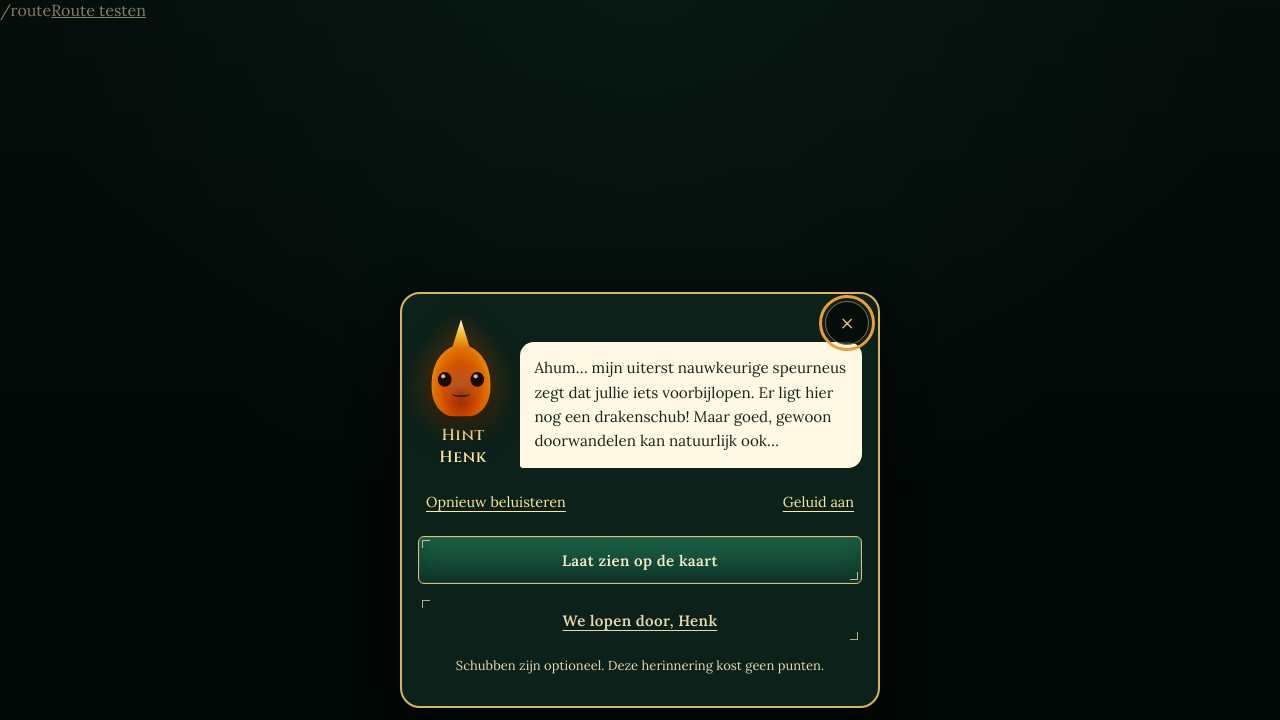
Test: Hint Henk schub reminders › shows a free reminder after passing, respects mute and focuses the schub on the map
Expected: the dialog with class "henk-hint" is shown, [400, 292, 880, 708]
Step 1. Click the button "Laat zien op de kaart" → (640,560), box [418, 536, 862, 584]
Wait 1000 ms
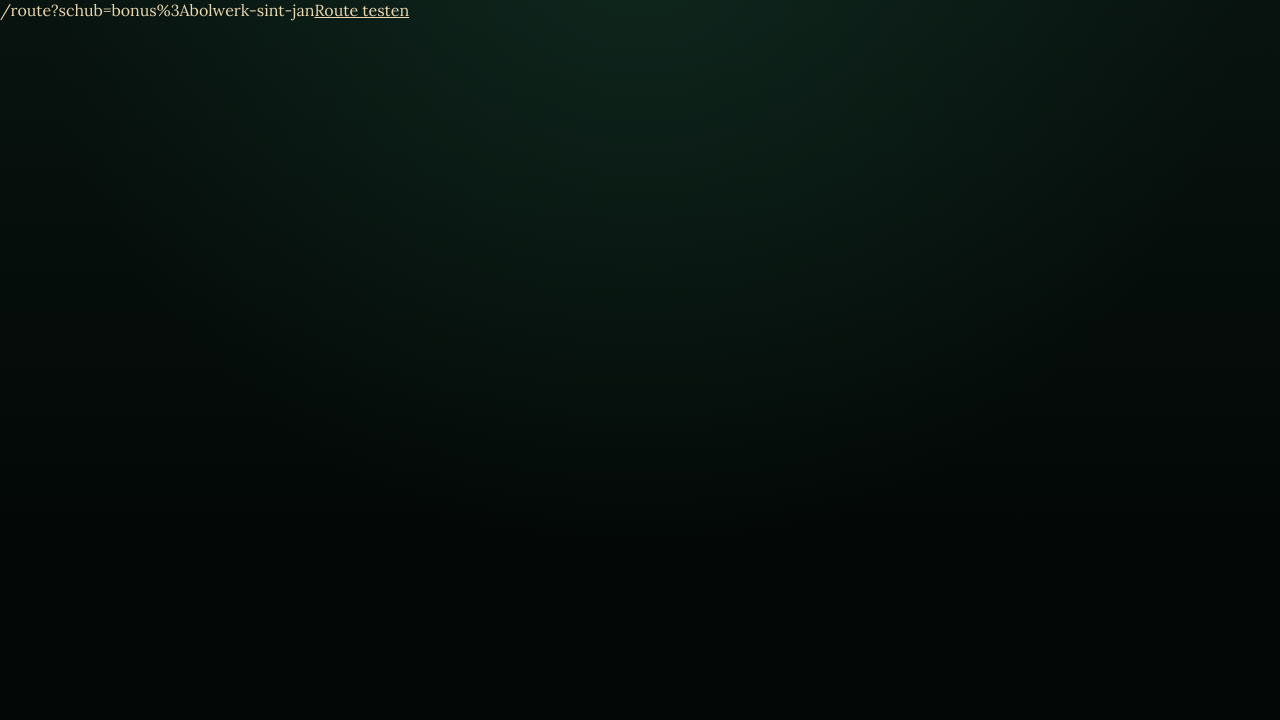
Expected: the dialog with class "henk-hint" is gone
